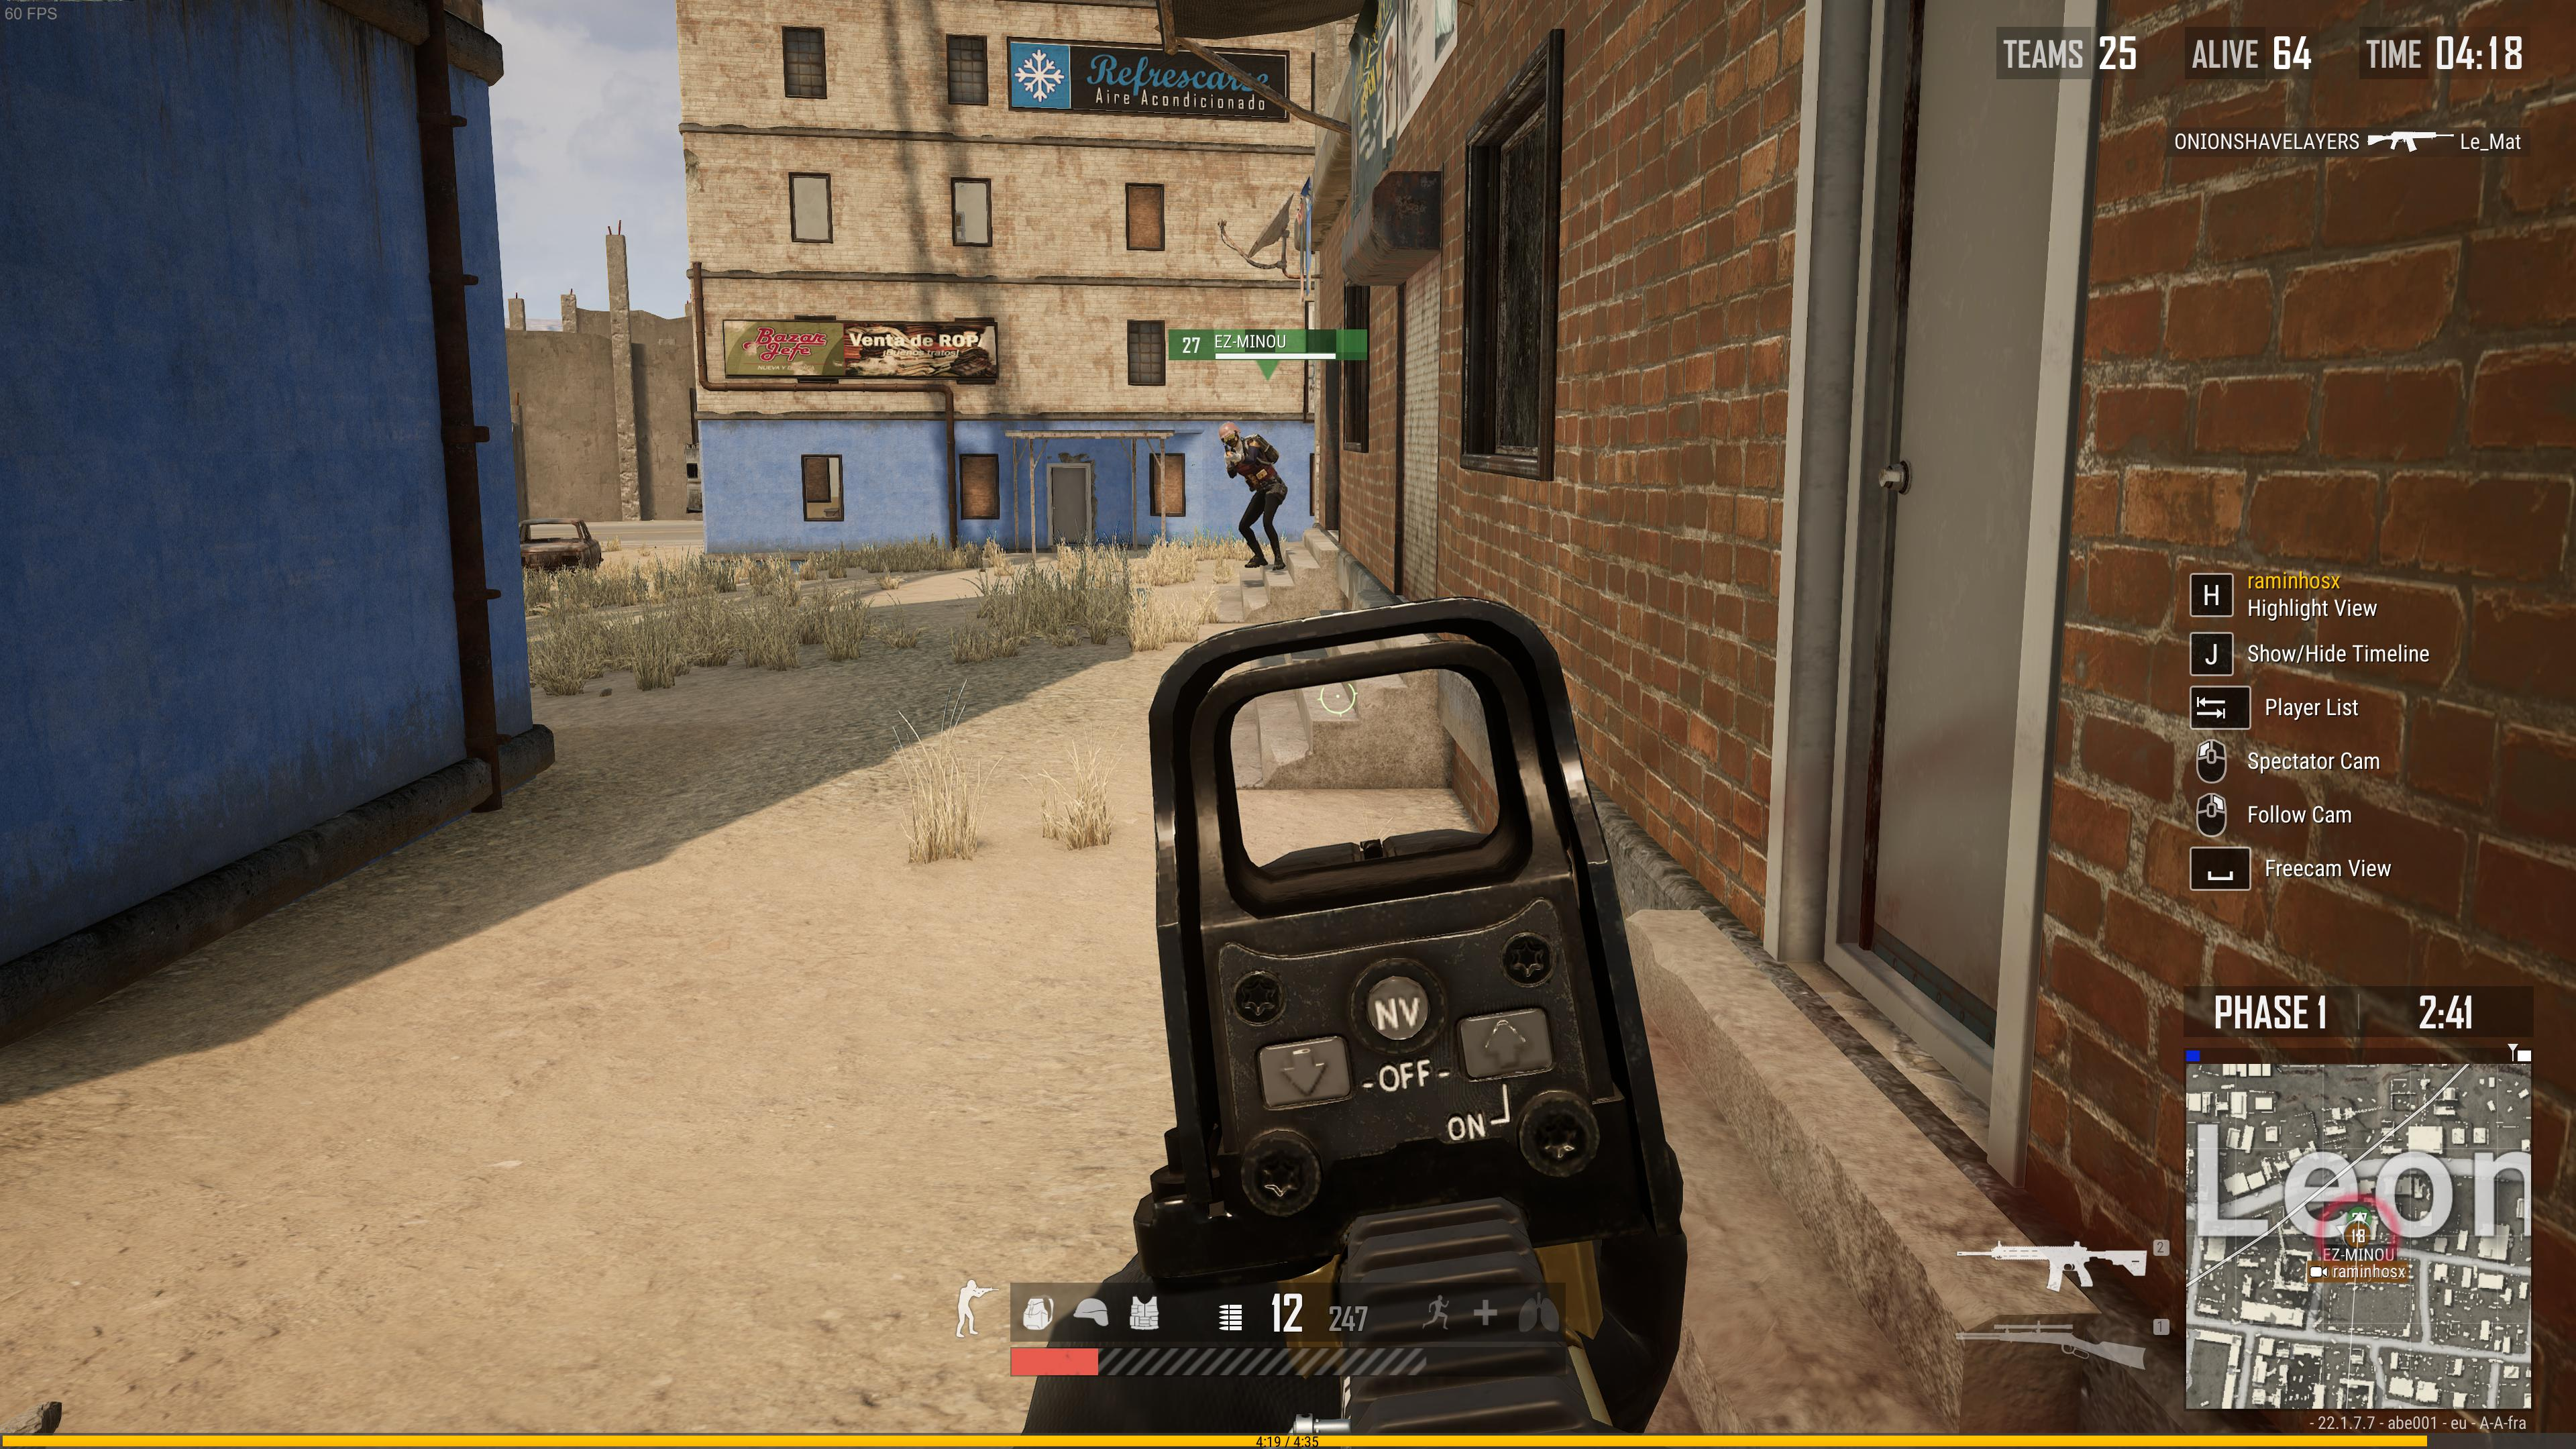enemy: (1217, 419, 1288, 570)
enemy_head: (1217, 419, 1240, 448)
